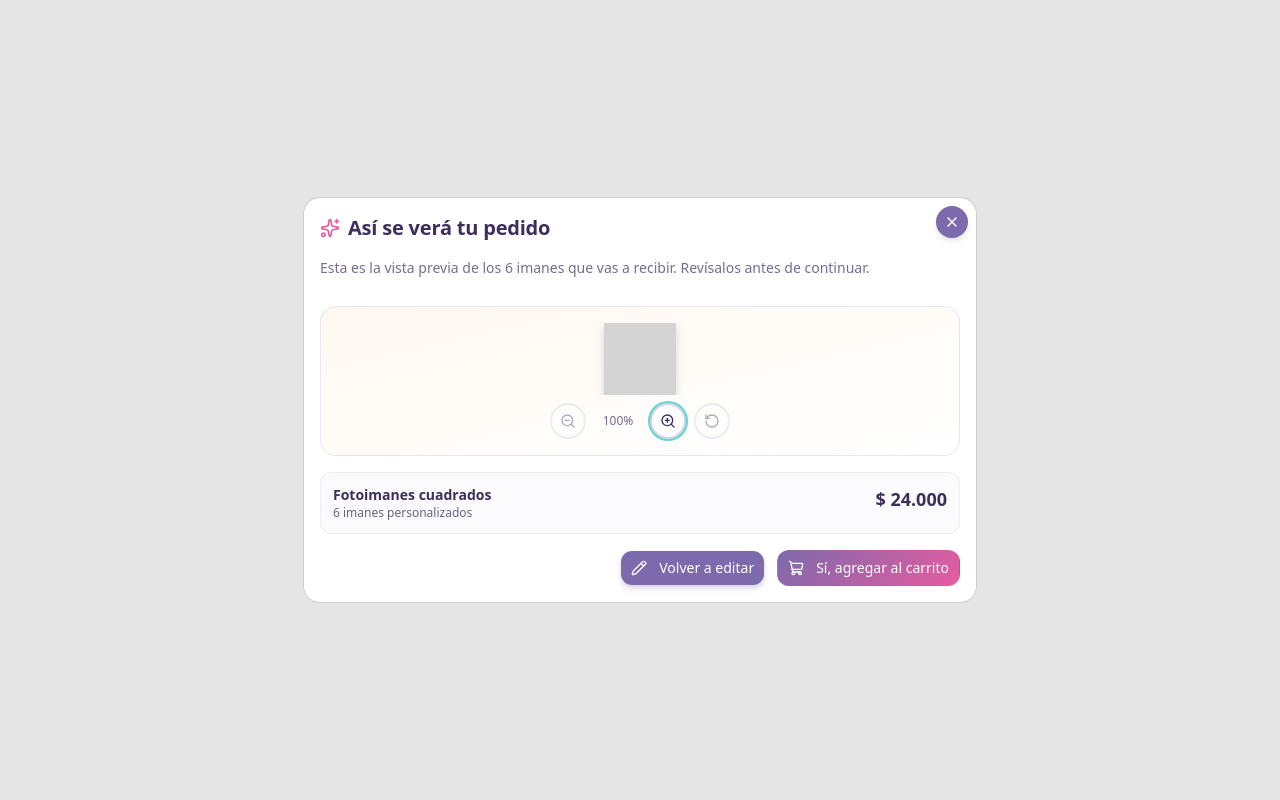
Test: StudioPreviewModal — ZOOM del preview (2026-10-19) › botones accesibles: «Acercar» → 150%, «Restablecer» vuelve a 100%
The image size is (1280, 800).
Check: the button named "Alejar la vista previa" is disabled, box [550,403,586,439]
Check: the button named "Restablecer el zoom de la vista previa" is disabled, box [694,403,730,439]
Click the button named "Acercar la vista previa" at (668, 421), box [650,403,686,439]
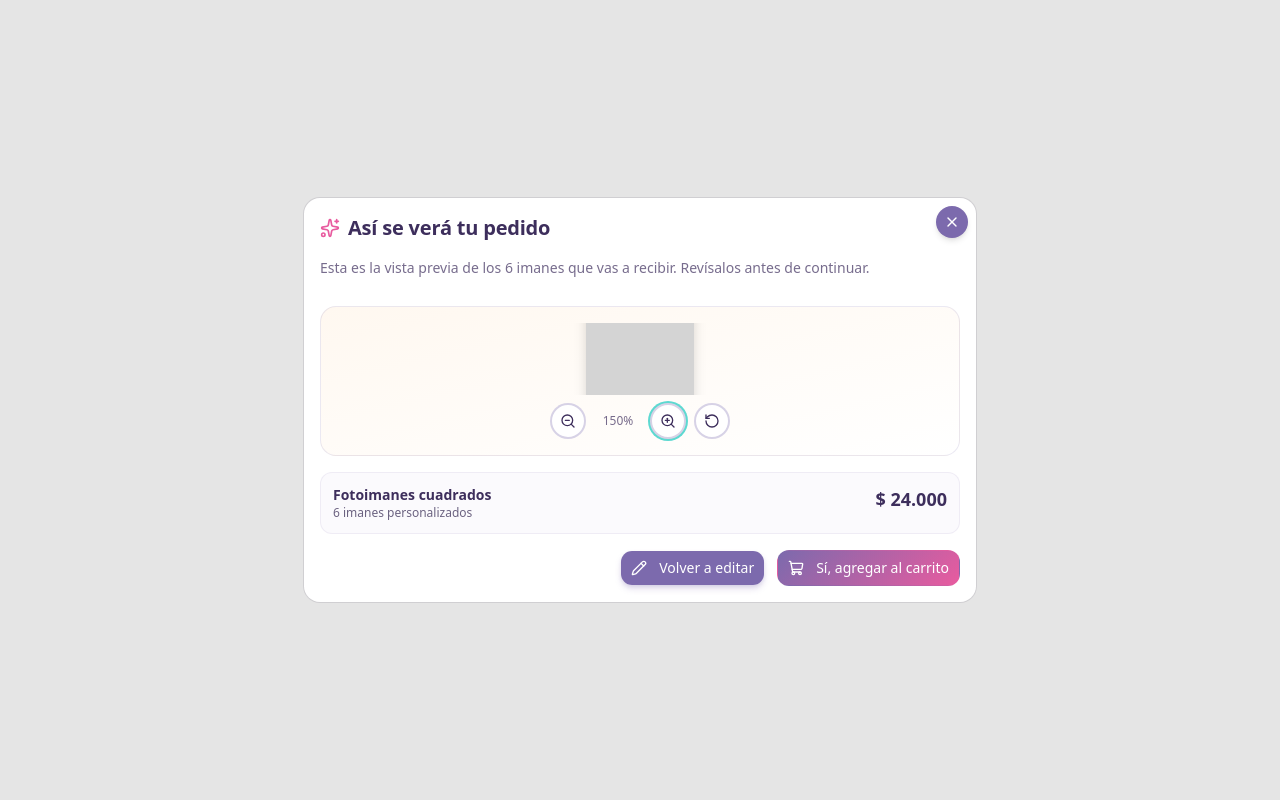
Check: the text "150%" is shown, box [603,412,633,429]
Click the button named "Restablecer el zoom de la vista previa" at (712, 421), box [694,403,730,439]
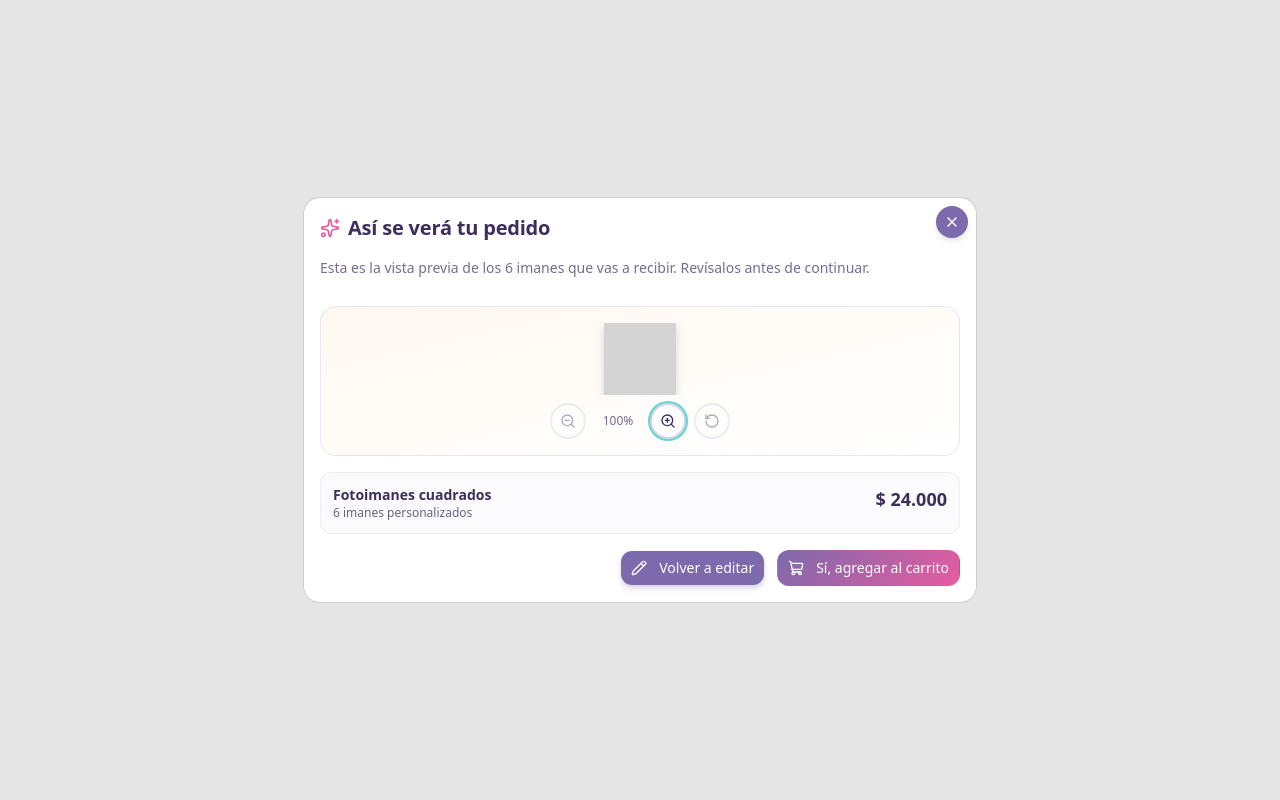
Check: the text "100%" is shown, box [603,412,633,429]
